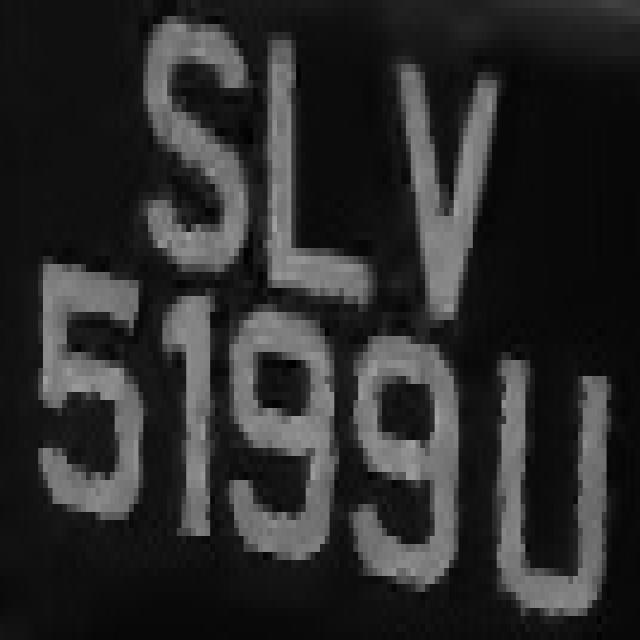1: (158, 256, 220, 592)
5: (19, 240, 153, 544)
9: (339, 304, 473, 616), (224, 288, 344, 584)
L: (248, 24, 378, 320)
S: (134, 0, 253, 296)
U: (497, 304, 630, 624)
V: (372, 24, 516, 352)
